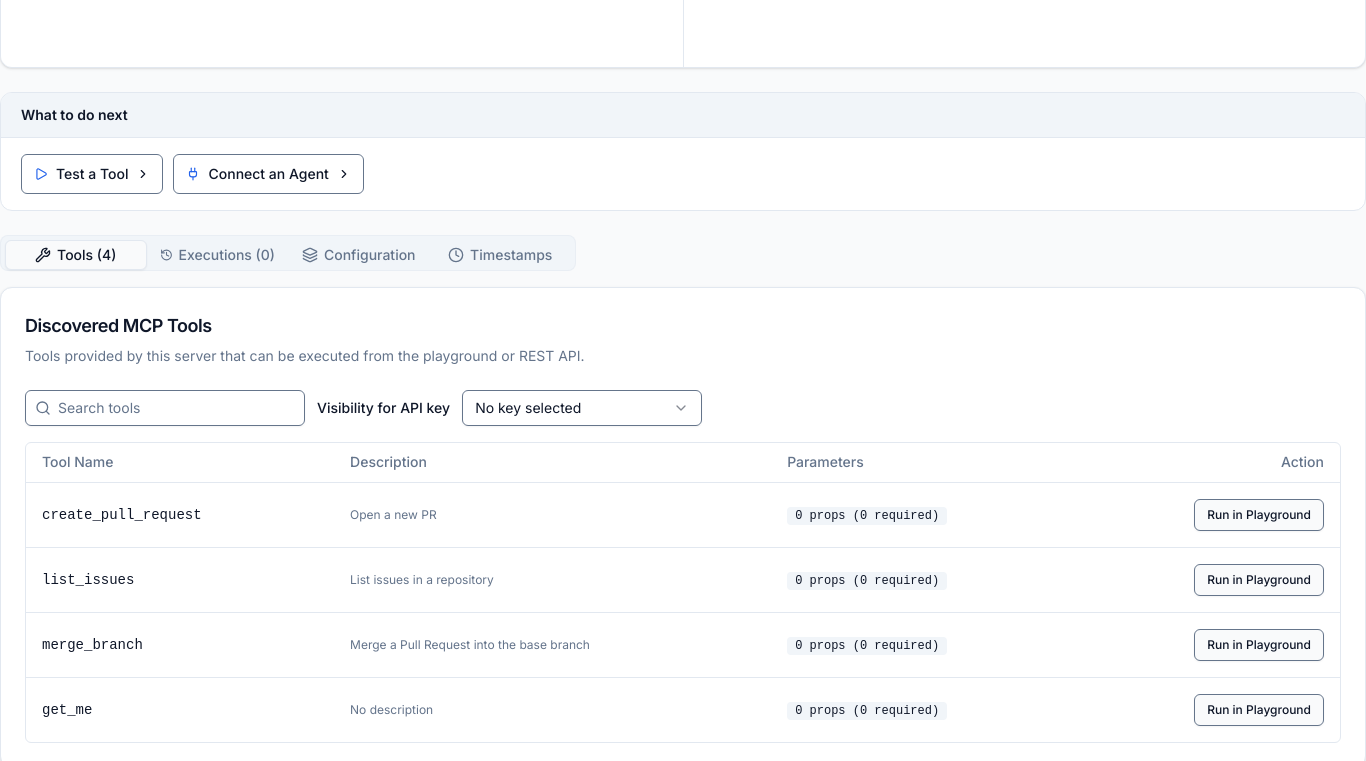
Scenario: Server detail tool search › shows an empty state when nothing matches, and clearing restores the list
(page scrolled)
Type "zzz" into the search field labelled "Search tools" at (165, 408), box [25, 390, 305, 426]
(page scrolled)
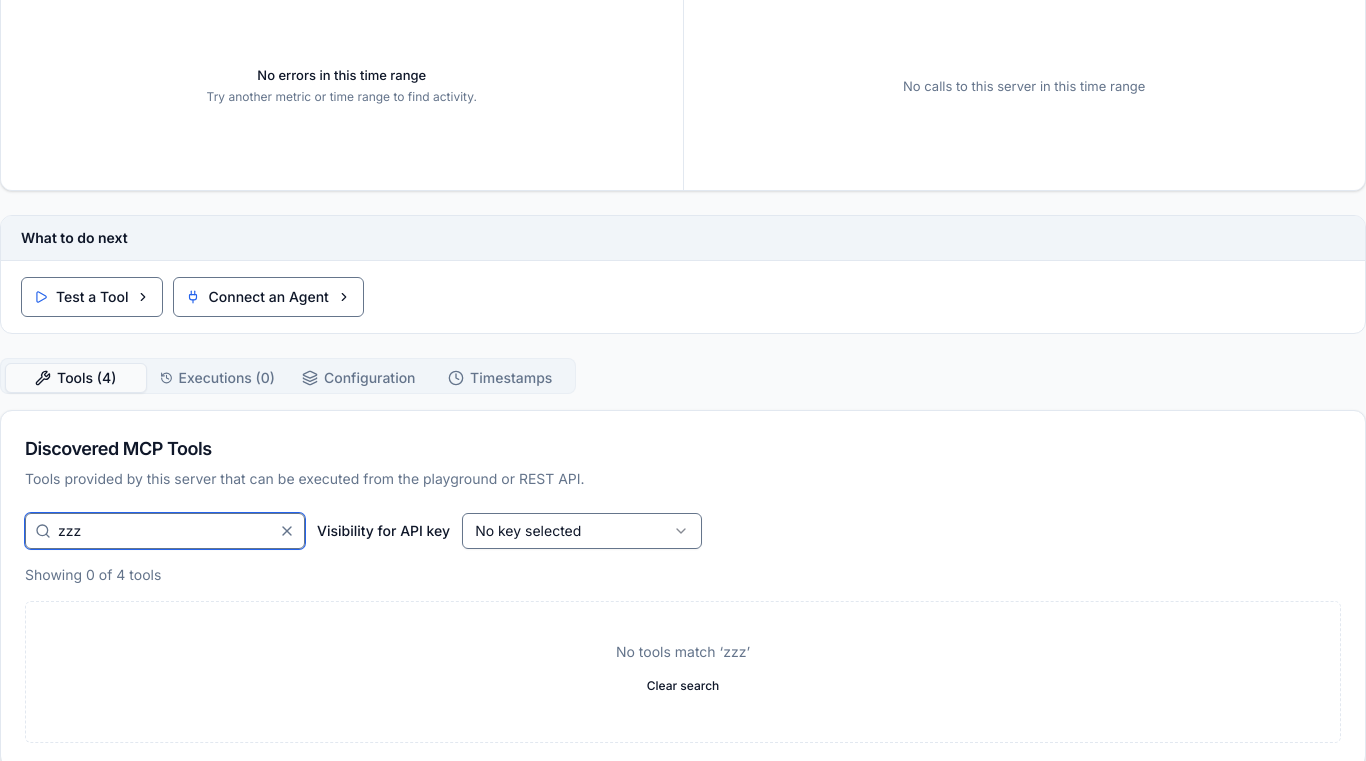
Expected: the text "No tools match ‘zzz’" is shown, [616, 642, 750, 660]
Expected: the element with test id "server-tools-table" is gone
Click the button "Clear search" at (683, 686), box [635, 670, 731, 702]
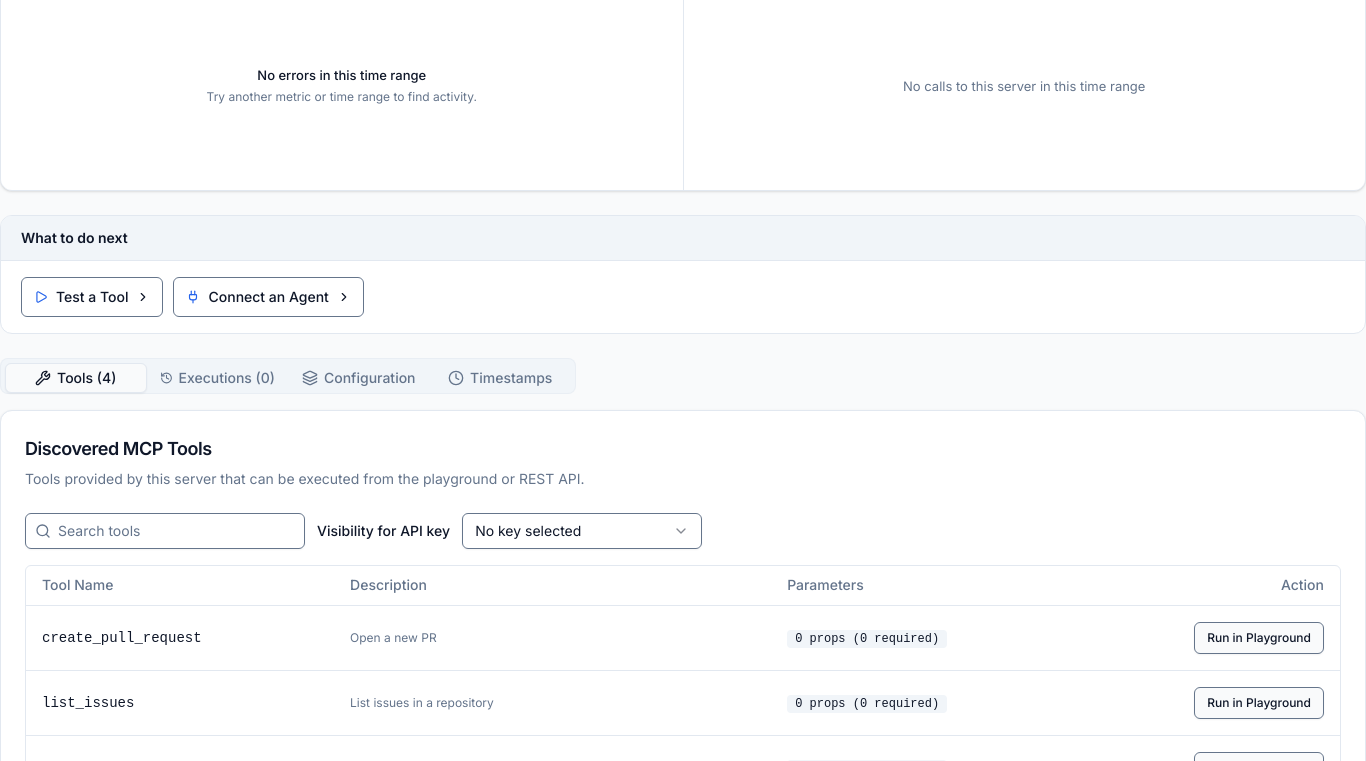
Expected: the search field labelled "Search tools" is empty, [25, 512, 305, 548]
